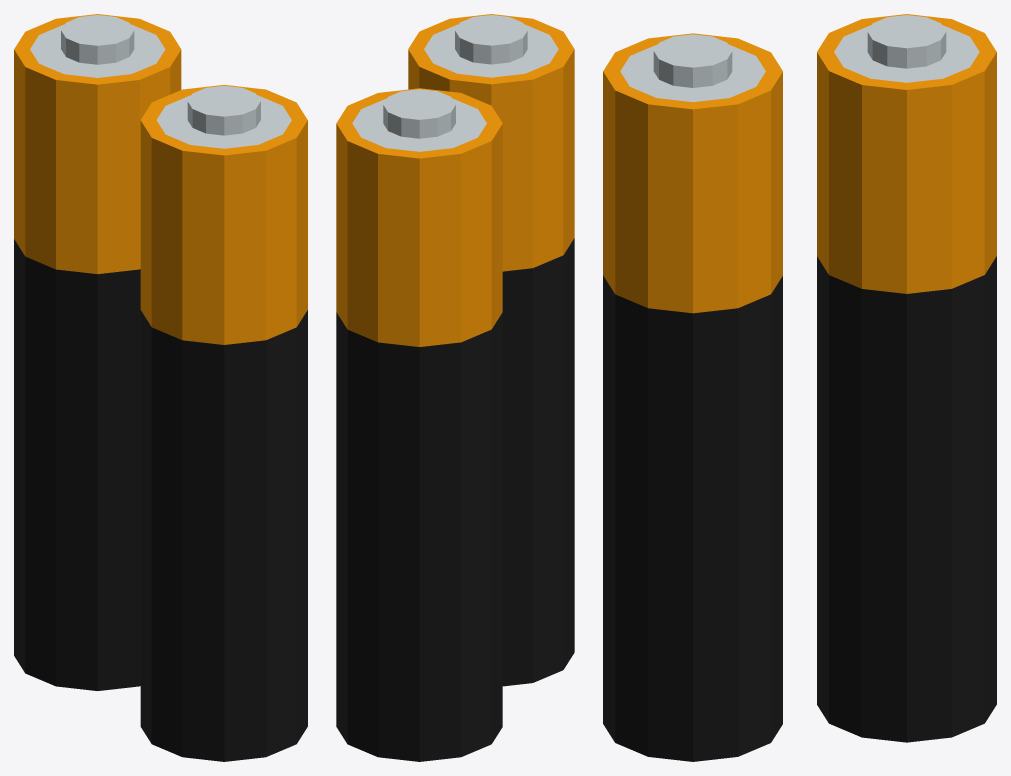
Rendered from baterai_AA_pasangan.glb.
3 renders of one model, left to right at view 1: azimuth 30°, elevation 25°; view 2: azimuth 150°, elevation 25°; view 3: azimuth 270°, elevation 25°, orthographic. The views are drawn at different scales.
Parts seen in each view (by area): view 1: Node; view 2: Node; view 3: Node.
Part boxes in pixels (x1,y1,x2,y2): Node: (14,14,307,761); Node: (336,14,574,761); Node: (603,14,996,761).
Bounding box in the file's own units: 0.19 × 0.665 × 0.35.
